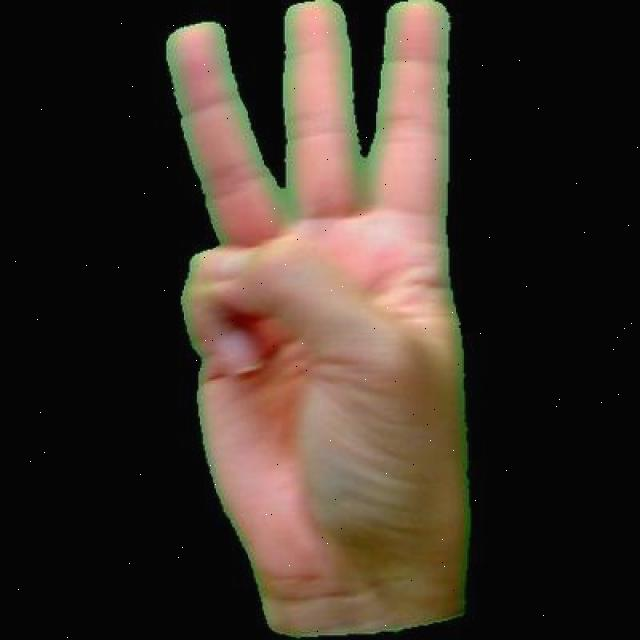w: (150, 0, 484, 637)
